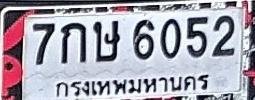0: (160, 18, 181, 58)
2: (212, 15, 234, 56)
5: (187, 16, 208, 57)
6: (133, 19, 154, 59)
7: (32, 22, 55, 64)
A01: (60, 22, 86, 63)
A39: (93, 20, 120, 62)
BKK: (50, 69, 212, 100)
